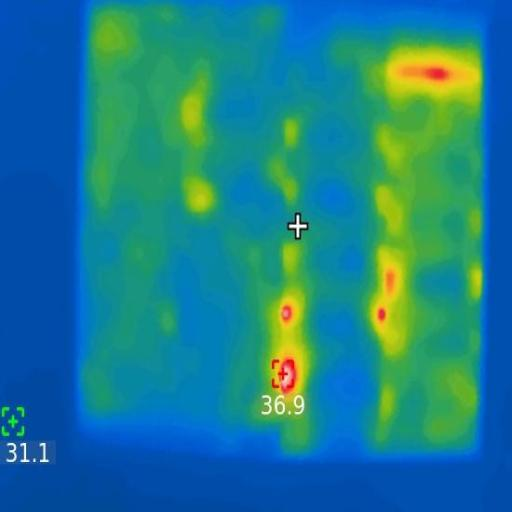hotspot: (275, 357, 299, 394), (418, 62, 452, 84), (280, 302, 294, 328), (373, 305, 388, 326)
